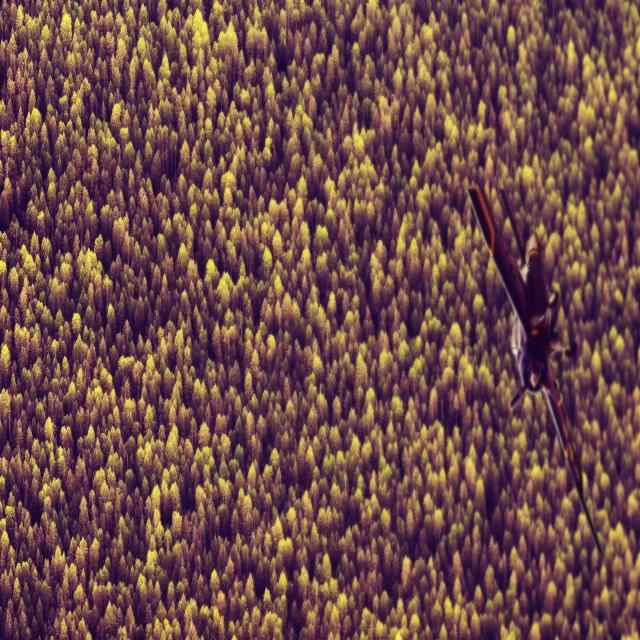airplane: (466, 182, 603, 556)
